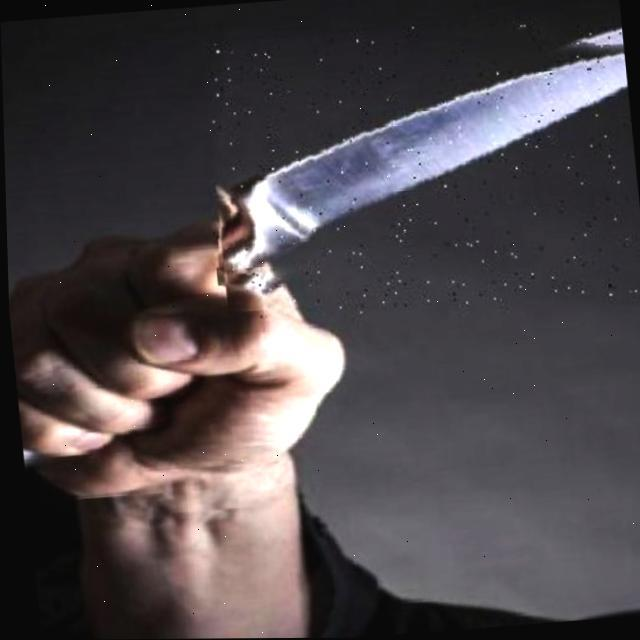knife: (199, 10, 640, 325)
